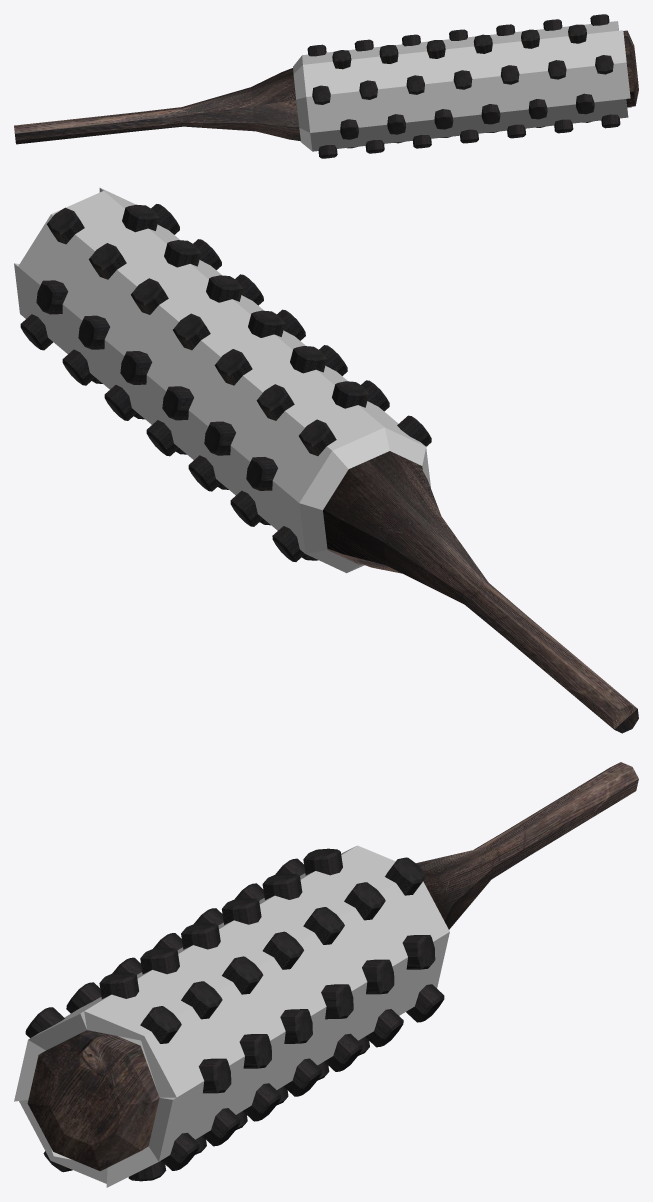
File: Gourdin.fbx
3 renders of one model, top to bottom at view 1: azimuth 30°, elevation 25°; view 2: azimuth 150°, elevation 25°; view 3: azimuth 270°, elevation 25°, orthographic. The views are drawn at different scales.
Parts seen in each view (by area): view 1: Cube; view 2: Cube; view 3: Cube.
Part boxes in pixels (x1,y1,x2,y2): Cube: [14, 14, 638, 158]; Cube: [14, 188, 638, 733]; Cube: [14, 762, 638, 1187].
Size of the model in its own units: 80.45 by 19.42 by 47.66.
